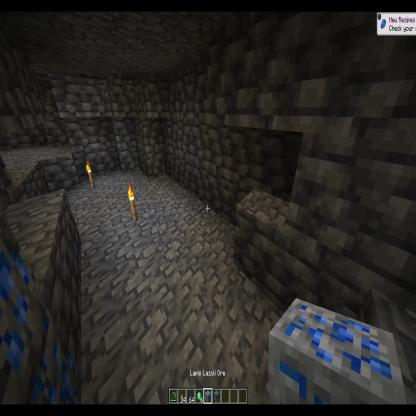lapis ore: (265, 295, 411, 411), (22, 305, 104, 416), (0, 233, 42, 409)
